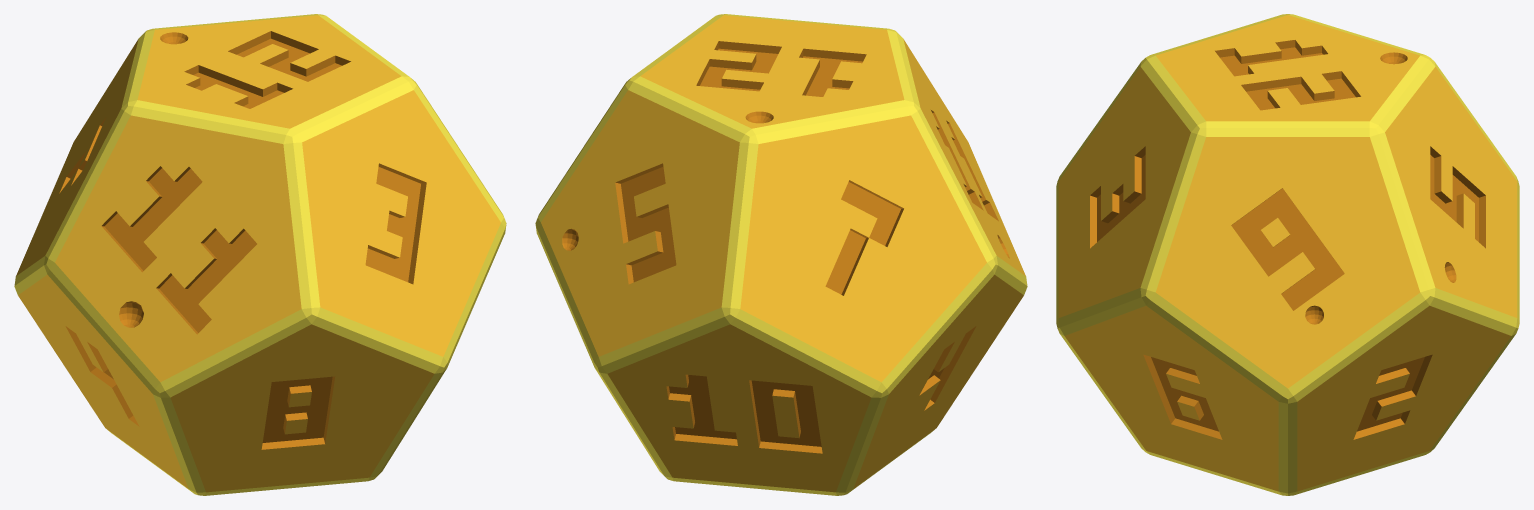
File: Die_Gouda_d12.fbx
3 renders of one model, left to right at view 1: azimuth 30°, elevation 25°; view 2: azimuth 150°, elevation 25°; view 3: azimuth 270°, elevation 25°, orthographic. The views are drawn at different scales.
Parts seen in each view (by area): view 1: Die_Gouda_d12; view 2: Die_Gouda_d12; view 3: Die_Gouda_d12.
Boxes of the visible parts, x1,y1,x2,y2 form: Die_Gouda_d12: (14,14,506,495); Die_Gouda_d12: (535,14,1027,495); Die_Gouda_d12: (1056,14,1519,495).
Bounding box in the file's own units: 1.76 × 1.45 × 1.68.
